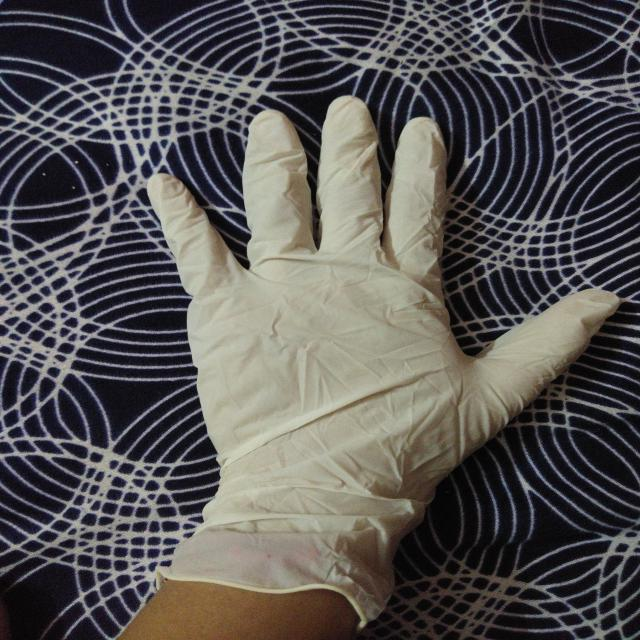gloved_hand: (135, 92, 625, 631)
